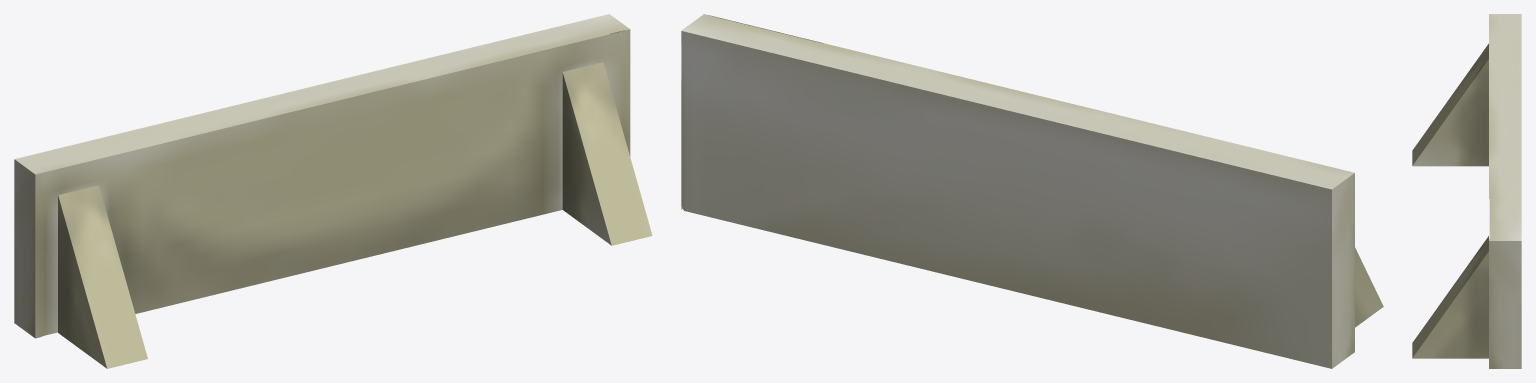
Rendered from props_shelf_white.fbx.
3 renders of one model, left to right at view 1: azimuth 30°, elevation 25°; view 2: azimuth 150°, elevation 25°; view 3: azimuth 270°, elevation 25°, orthographic. The views are drawn at different scales.
Parts seen in each view (by area): view 1: shelf_white; view 2: shelf_white; view 3: shelf_white.
Part boxes in pixels (<box>): shelf_white: <box>14,14,652,368</box>; shelf_white: <box>681,14,1383,368</box>; shelf_white: <box>1412,14,1521,368</box>.
Bounding box in the file's own units: 1.26 × 0.3308 × 0.2565.
1 material, 1 textured.
